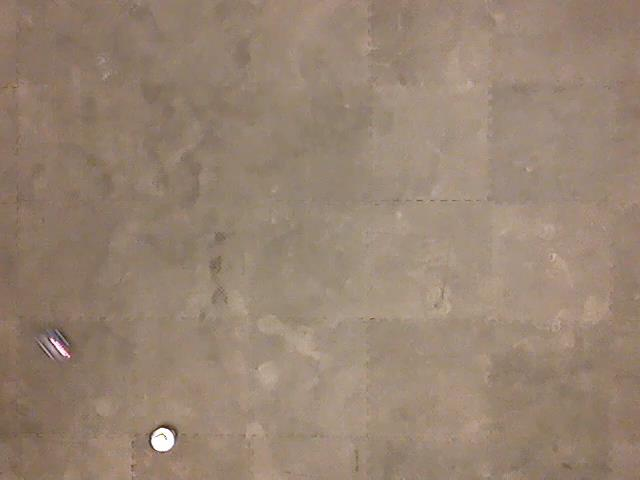Agent: (32, 324, 74, 364), (146, 424, 180, 455)
